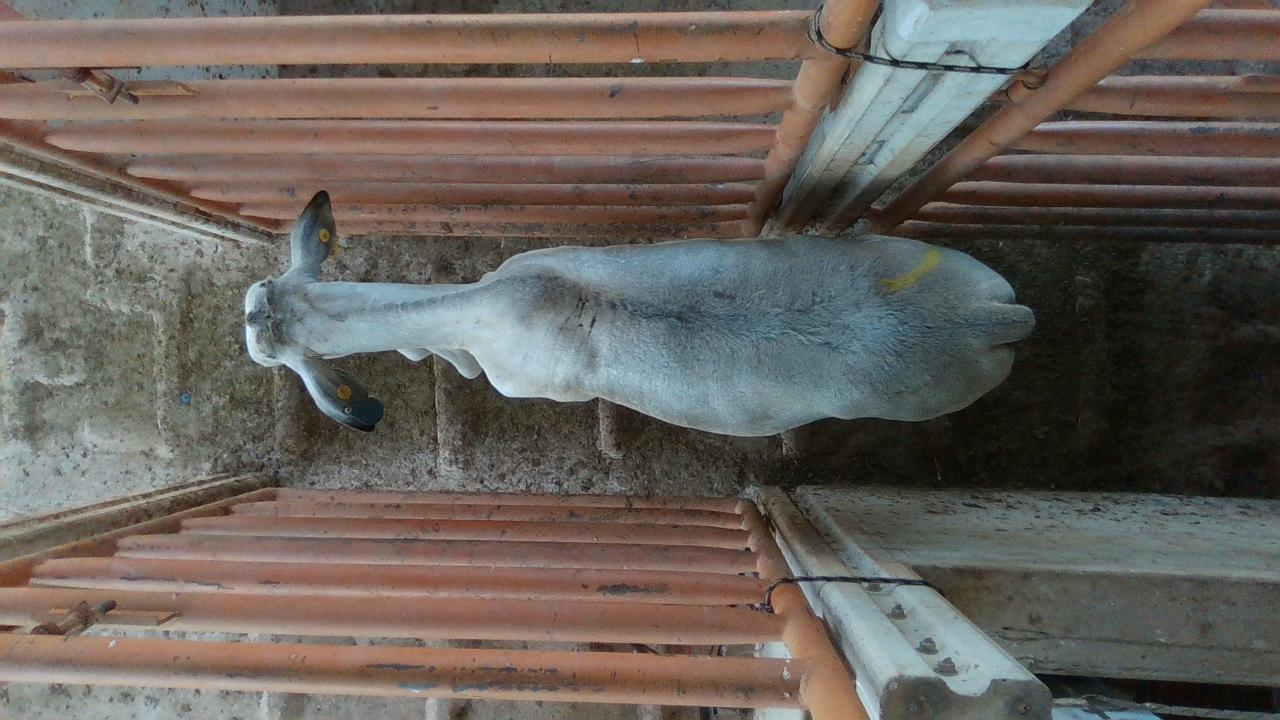cattle: (242, 188, 1036, 439)
